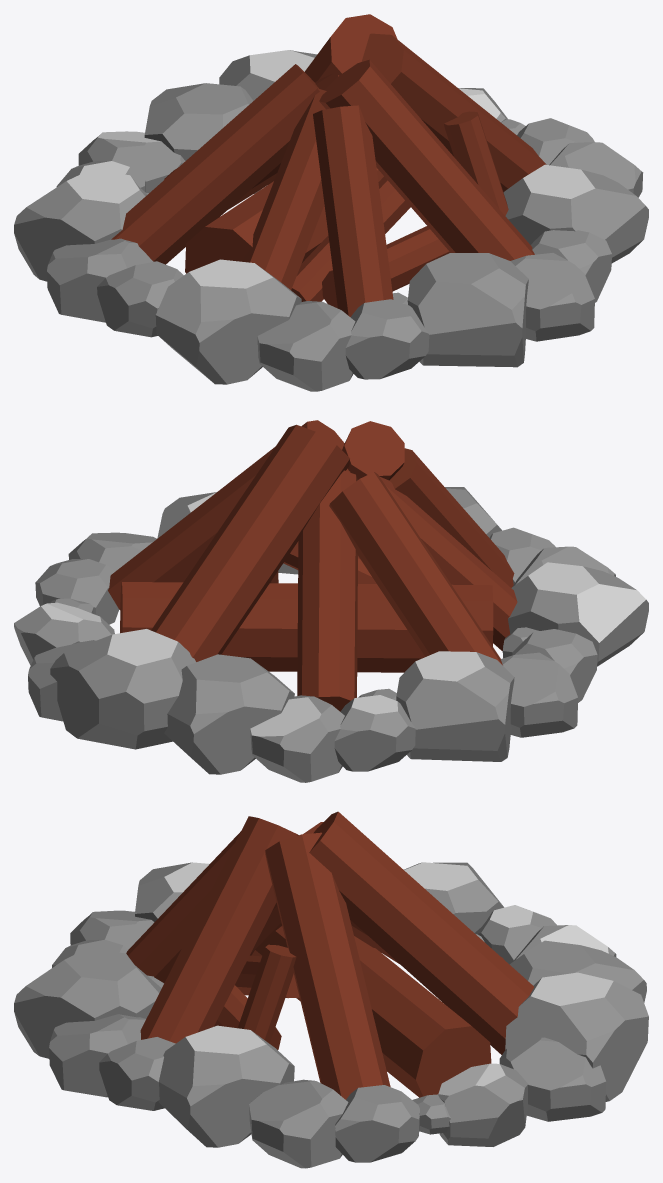
File: Bonfire.fbx
The picture shows the model from 3 angles, top to bottom: view 1: azimuth 30°, elevation 25°; view 2: azimuth 150°, elevation 25°; view 3: azimuth 270°, elevation 25°; orthographic projection. The views are drawn at different scales.
Visible parts, largest first — view 1: Bonfire; view 2: Bonfire; view 3: Bonfire.
Boxes of the visible parts, x1=… form: Bonfire: x1=14, y1=14, x2=648, y2=391; Bonfire: x1=14, y1=420, x2=648, y2=782; Bonfire: x1=14, y1=811, x2=648, y2=1168.
Size of the model in its own units: 0.8508 by 0.353 by 0.8711.
